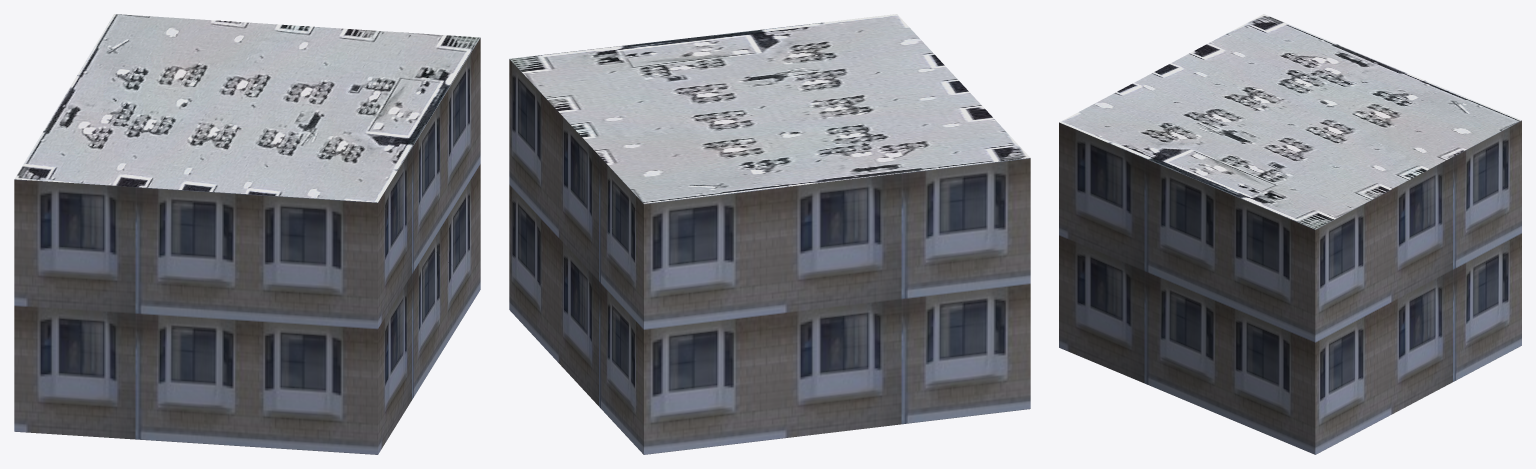
File: ResTex__179.fbx
3 views of the same model, side by side, from view 1: azimuth 30°, elevation 25°; view 2: azimuth 150°, elevation 25°; view 3: azimuth 270°, elevation 25° (orthographic). The views are drawn at different scales.
Visible parts, largest first — view 1: CityEngineMaterial_3_m, CityEngineMaterial_m; view 2: CityEngineMaterial_3_m, CityEngineMaterial_m; view 3: CityEngineMaterial_3_m, CityEngineMaterial_m.
Part boxes in pixels (x1,y1,x2,y2): CityEngineMaterial_3_m: (14, 38, 480, 454); CityEngineMaterial_m: (15, 14, 480, 202); CityEngineMaterial_3_m: (509, 59, 1030, 454); CityEngineMaterial_m: (509, 14, 1030, 203); CityEngineMaterial_3_m: (1059, 120, 1521, 454); CityEngineMaterial_m: (1059, 14, 1521, 229).
Bounding box in the file's own units: 12.31 × 6 × 11.17.
Materials: 2 (2 with a texture image).
